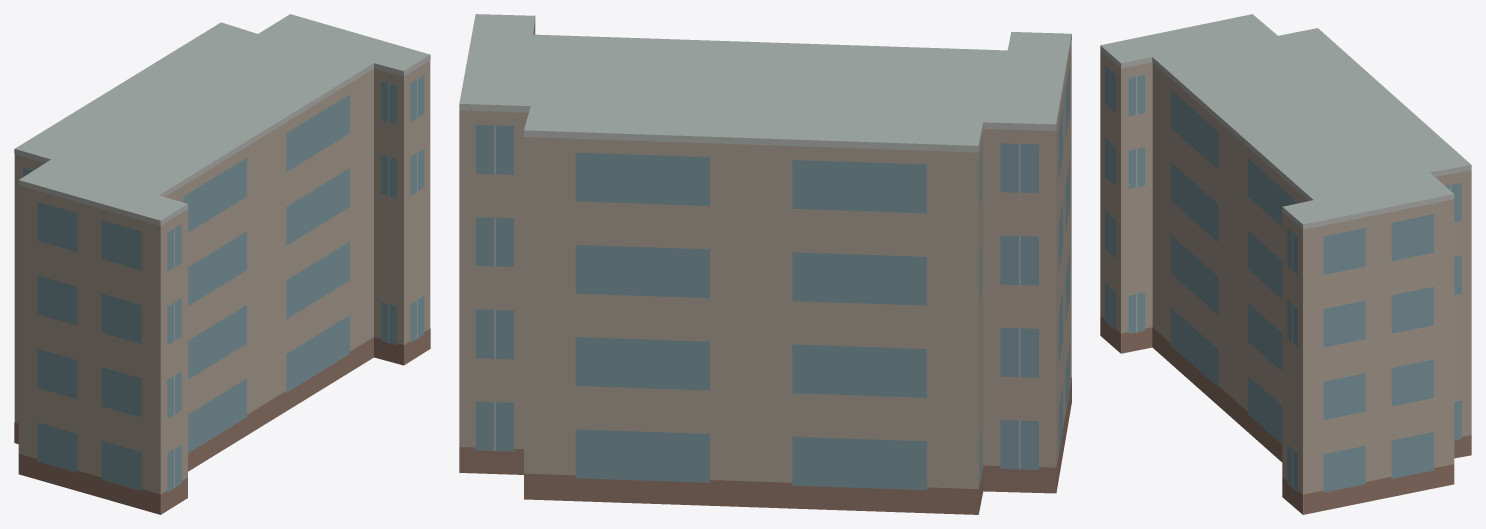
The model's file is survey-upis-32756612.glb.
3 renders of one model, left to right at view 1: azimuth 30°, elevation 25°; view 2: azimuth 150°, elevation 25°; view 3: azimuth 270°, elevation 25°, orthographic. The views are drawn at different scales.
Parts seen in each view (by area): view 1: survey-upis-32756612.tmp; view 2: survey-upis-32756612.tmp; view 3: survey-upis-32756612.tmp.
Boxes of the visible parts, box(x1,y1,x2,y2) form: survey-upis-32756612.tmp: box(14, 14, 430, 514); survey-upis-32756612.tmp: box(459, 14, 1071, 514); survey-upis-32756612.tmp: box(1100, 14, 1471, 514).
Bounding box in the file's own units: 21.17 × 13.6 × 15.78.
